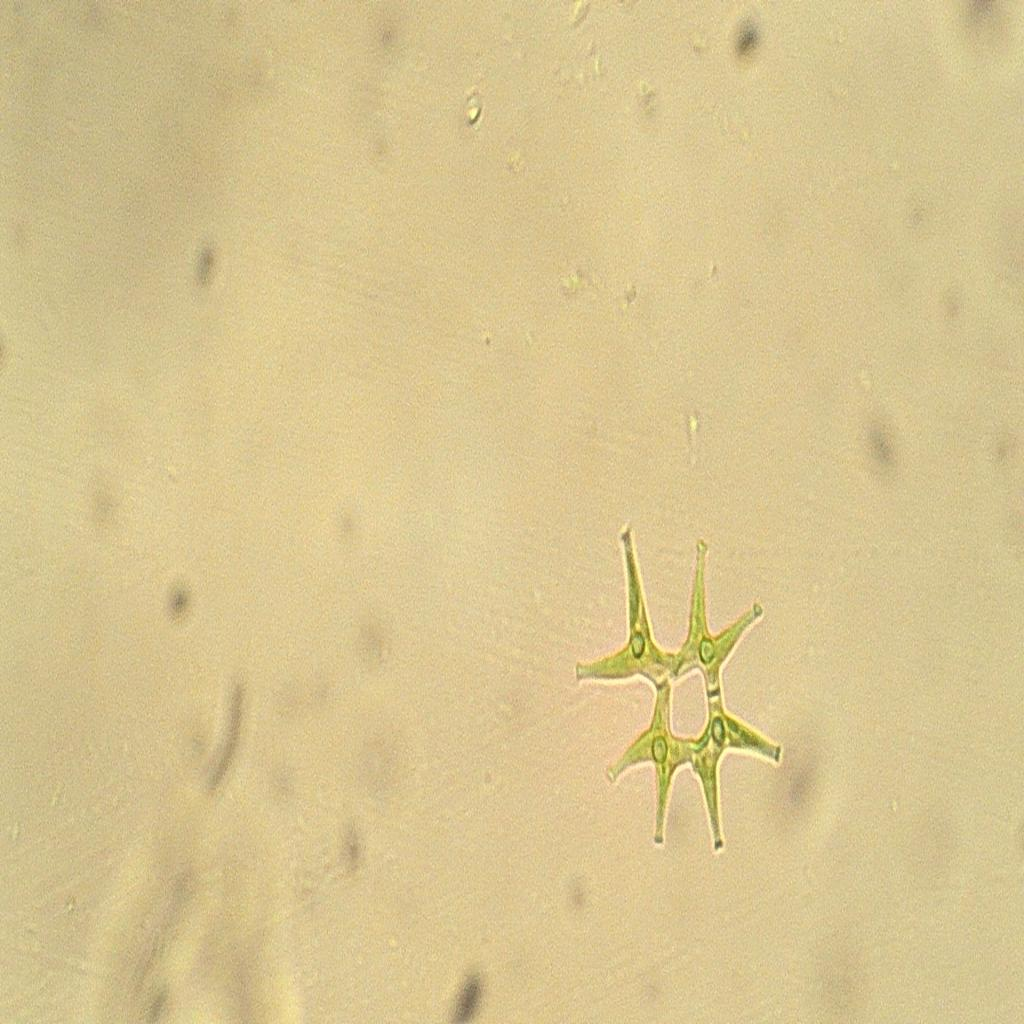Pediastrum_CT: (553, 516, 807, 885)
